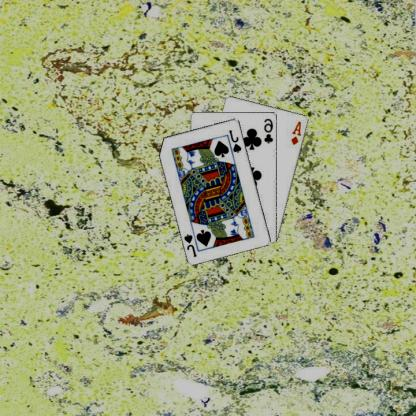6C: (264, 115, 276, 144)
AD: (290, 119, 304, 146)
JS: (228, 127, 245, 154), (184, 232, 199, 258)
